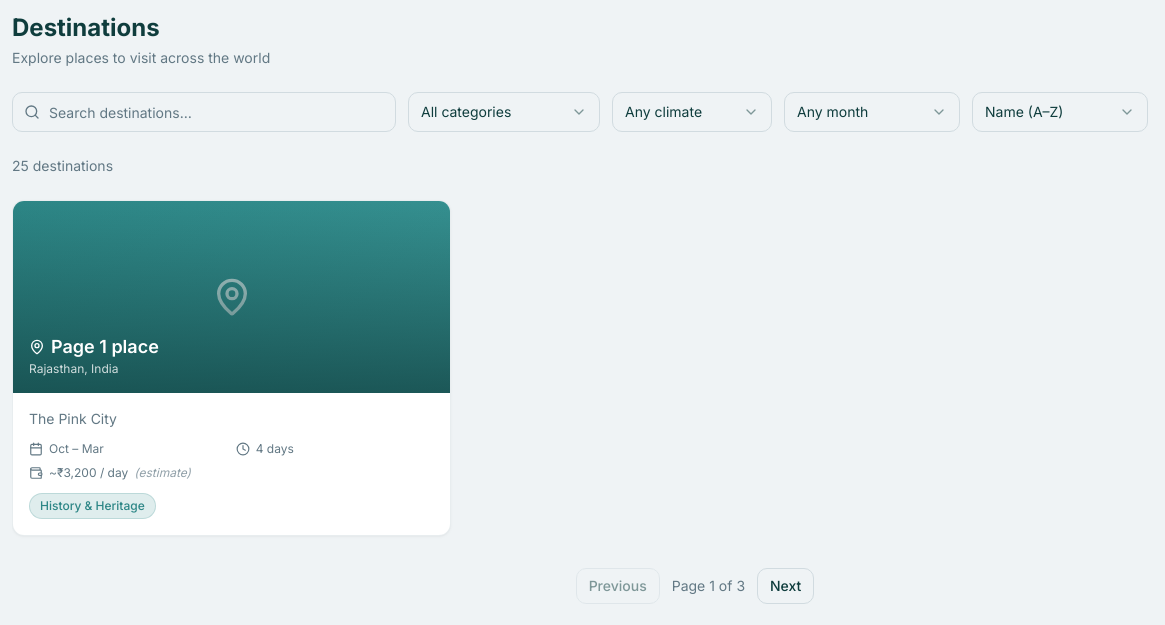
Scenario: BrowseDestinations › paginates with next/previous
Expected: the heading "Page 1 place" is shown, [29,336,159,357]
Expected: the text "Page 1 of 3" is shown, [672,576,745,596]
What coordinates should you click on to do the following:
click the button "Next"
I would click on:
 (786, 586)
Its box is [757,568,814,604].
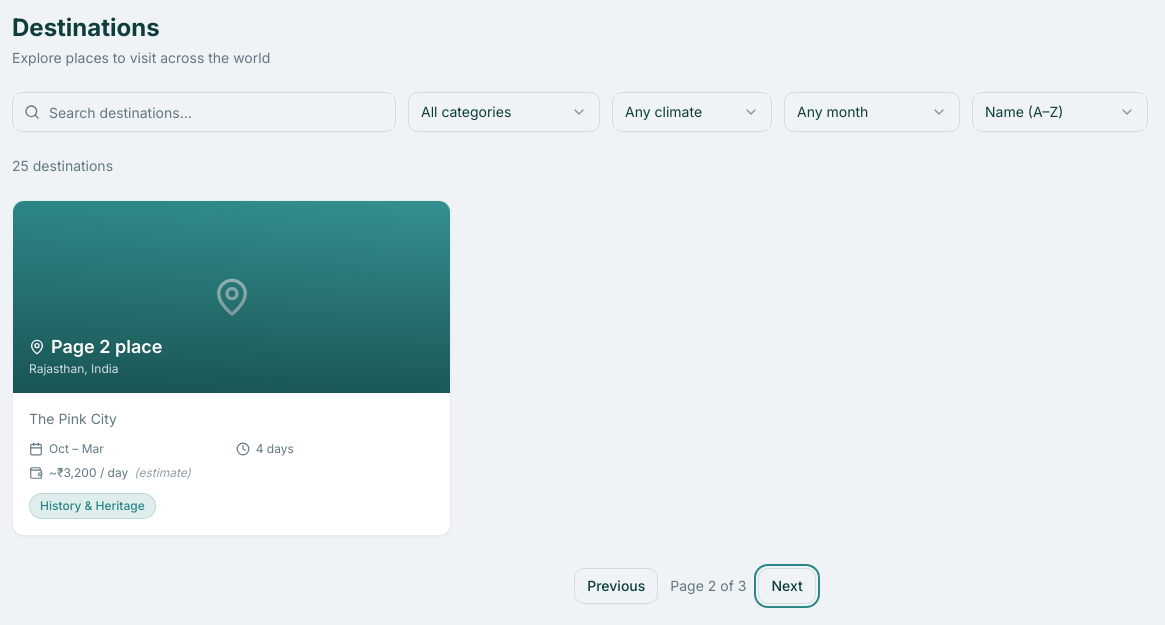
Result: the heading "Page 2 place" is shown at [29,336,162,357]
